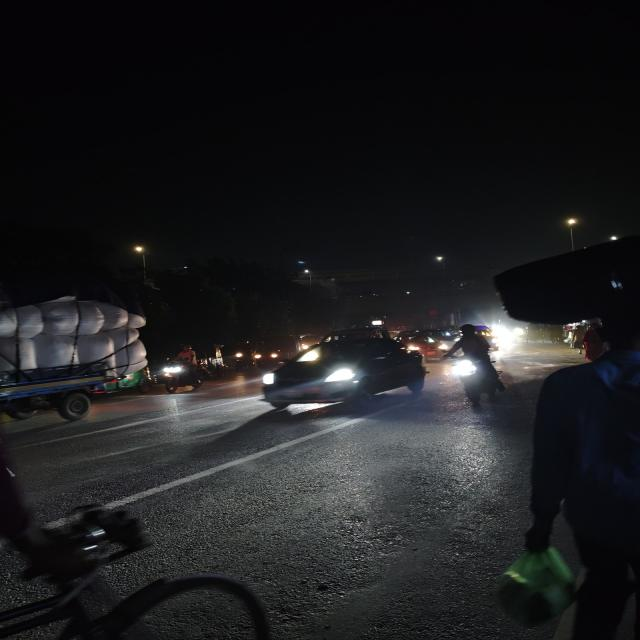car: (257, 330, 431, 420)
cng: (518, 308, 640, 640)
motorcycle: (442, 322, 512, 412), (158, 344, 212, 395)
pedestrian: (575, 320, 606, 365), (567, 321, 587, 357), (562, 324, 577, 349)
pickup_van: (0, 284, 152, 434)
